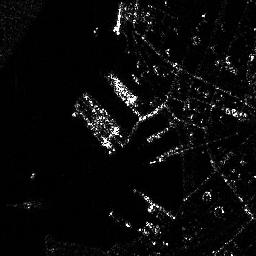ship: (74, 104, 115, 151), (84, 93, 124, 135), (106, 73, 145, 107), (113, 1, 124, 36)
